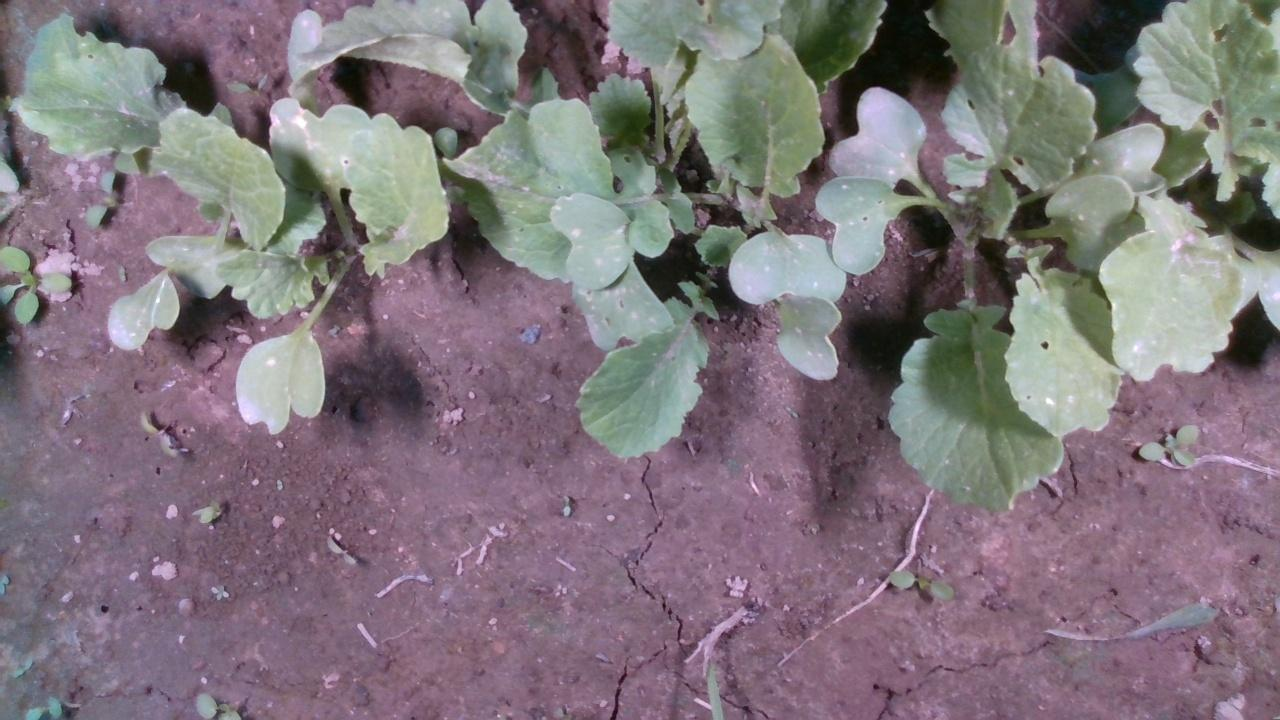weed: (1134, 420, 1206, 470), (880, 562, 960, 601)
